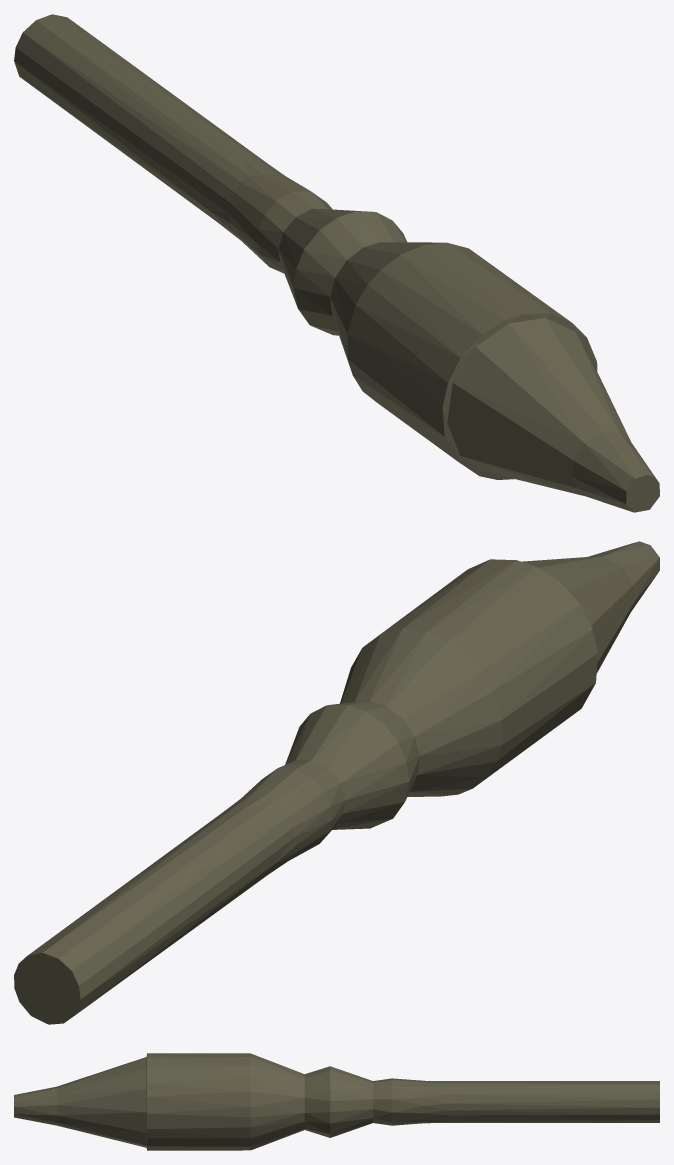
The model's file is Jhon-rpg.fbx.
3 views of the same model, one above another, from view 1: azimuth 30°, elevation 25°; view 2: azimuth 150°, elevation 25°; view 3: azimuth 270°, elevation 25° (orthographic). The views are drawn at different scales.
Parts seen in each view (by area): view 1: Cylinder; view 2: Cylinder; view 3: Cylinder.
Boxes of the visible parts, x1,y1,x2,y2 form: Cylinder: (14,14,659,512); Cylinder: (14,541,659,1024); Cylinder: (14,1053,659,1150).
Bounding box in the file's own units: 213 × 214 × 1411.
